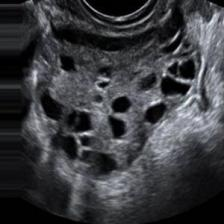pcos: (37, 10, 218, 185)
